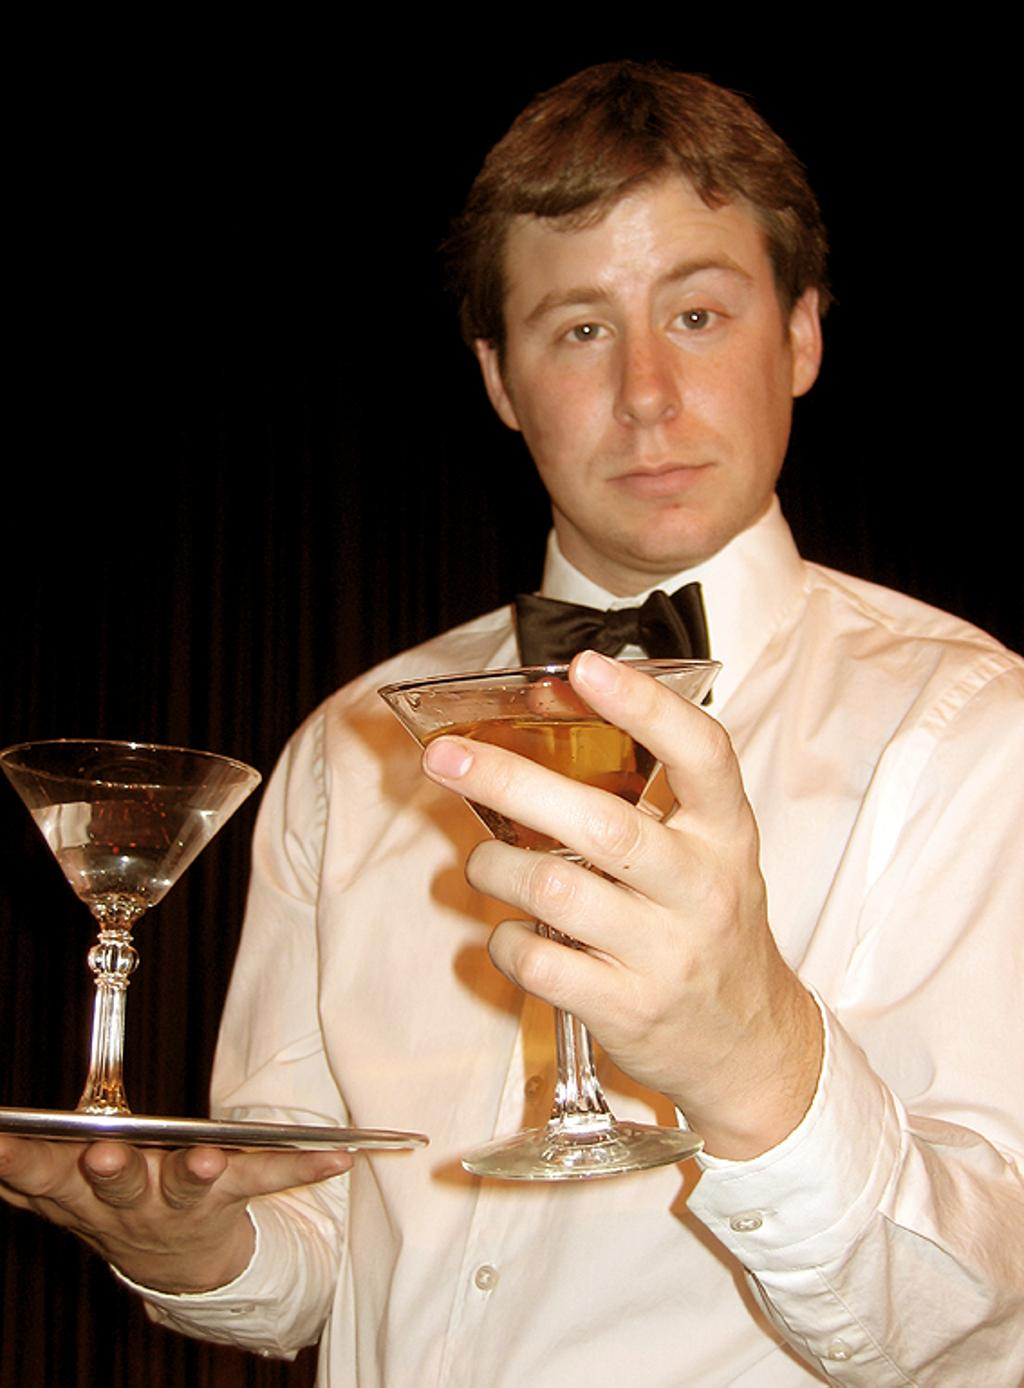face: (504, 179, 791, 553)
